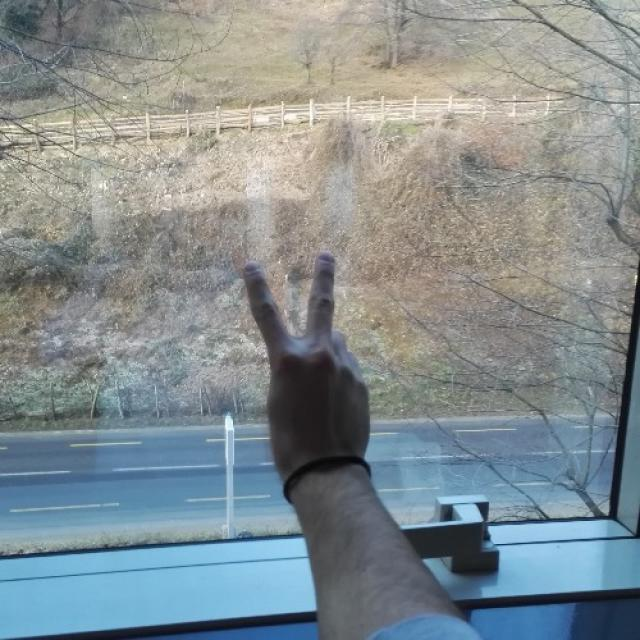scissors: (240, 253, 370, 458)
